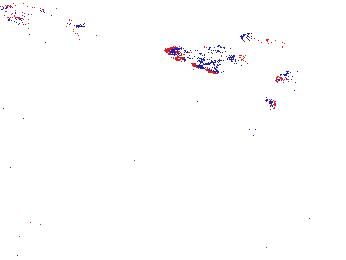X-ray fish: (125, 24, 164, 68)
red belly glassfish: (275, 65, 297, 86), (263, 93, 280, 112)
redtail glassfish: (1, 4, 82, 45), (166, 43, 247, 75), (243, 28, 295, 55)
